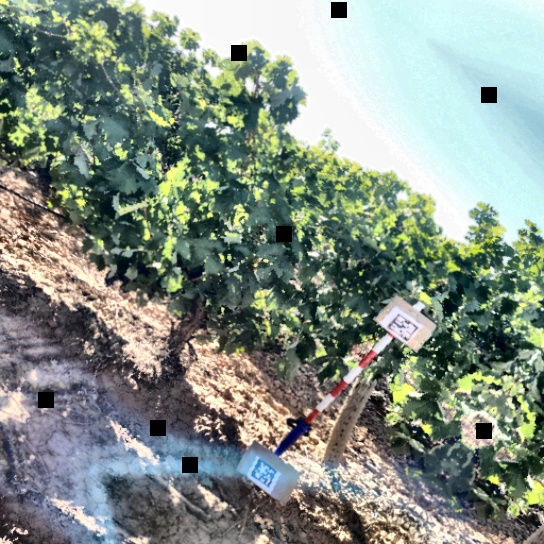QR: (246, 456, 282, 491), (386, 311, 420, 344)
